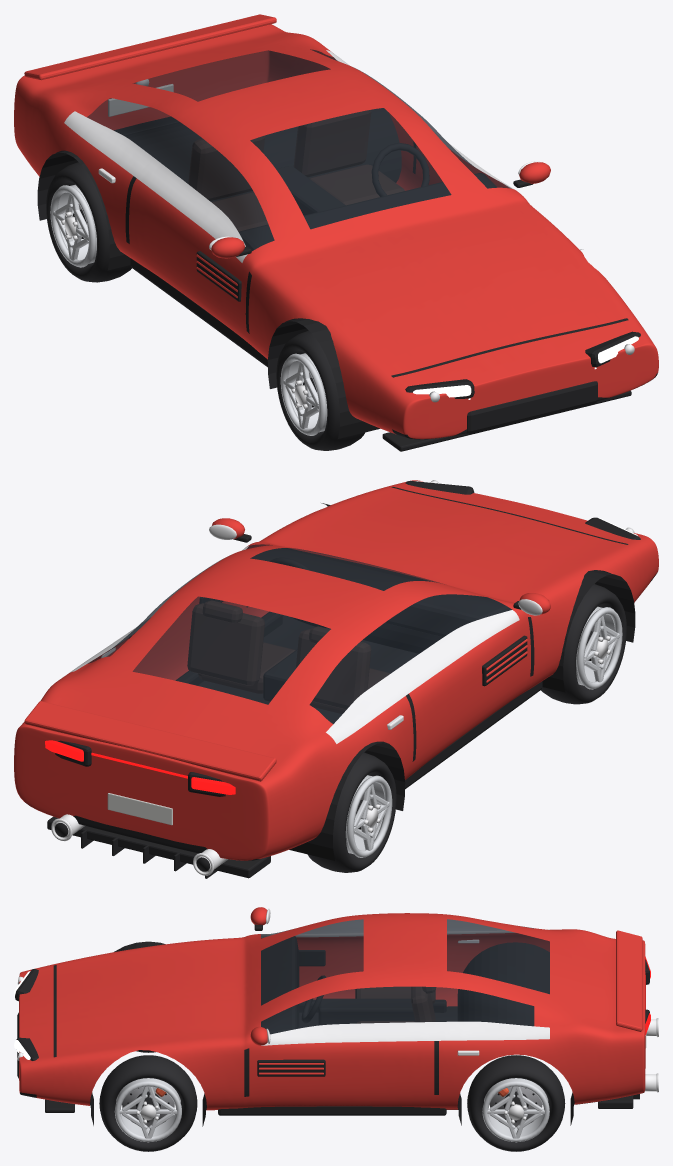
The model's file is aurum.glb.
The picture shows the model from 3 angles, top to bottom: view 1: azimuth 30°, elevation 25°; view 2: azimuth 150°, elevation 25°; view 3: azimuth 270°, elevation 25°; orthographic projection. The views are drawn at different scales.
Parts seen in each view (by area): view 1: body, wheel_fr, wheel_rr; view 2: body, wheel_rr, wheel_fr; view 3: body, wheel_rl, wheel_fl.
Boxes of the visible parts, x1,y1,x2,y2 form: body: [14, 14, 658, 451]; wheel_fr: [276, 330, 364, 450]; wheel_rr: [46, 162, 131, 282]; body: [14, 480, 658, 878]; wheel_rr: [307, 752, 396, 872]; wheel_fr: [541, 584, 626, 704]; body: [14, 907, 658, 1126]; wheel_rl: [467, 1055, 565, 1151]; wheel_fl: [99, 1055, 197, 1151].
Size of the model in its own units: 2.29 by 1.27 by 4.74.
